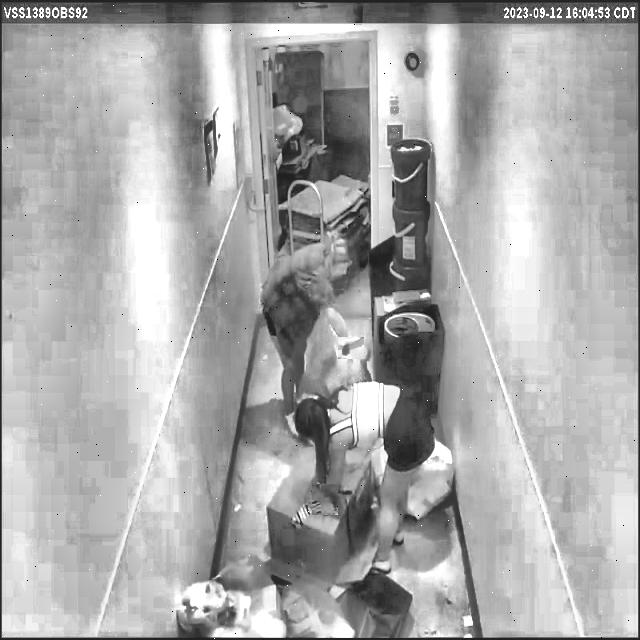not-gloved: (310, 485, 340, 514), (339, 336, 363, 361)
